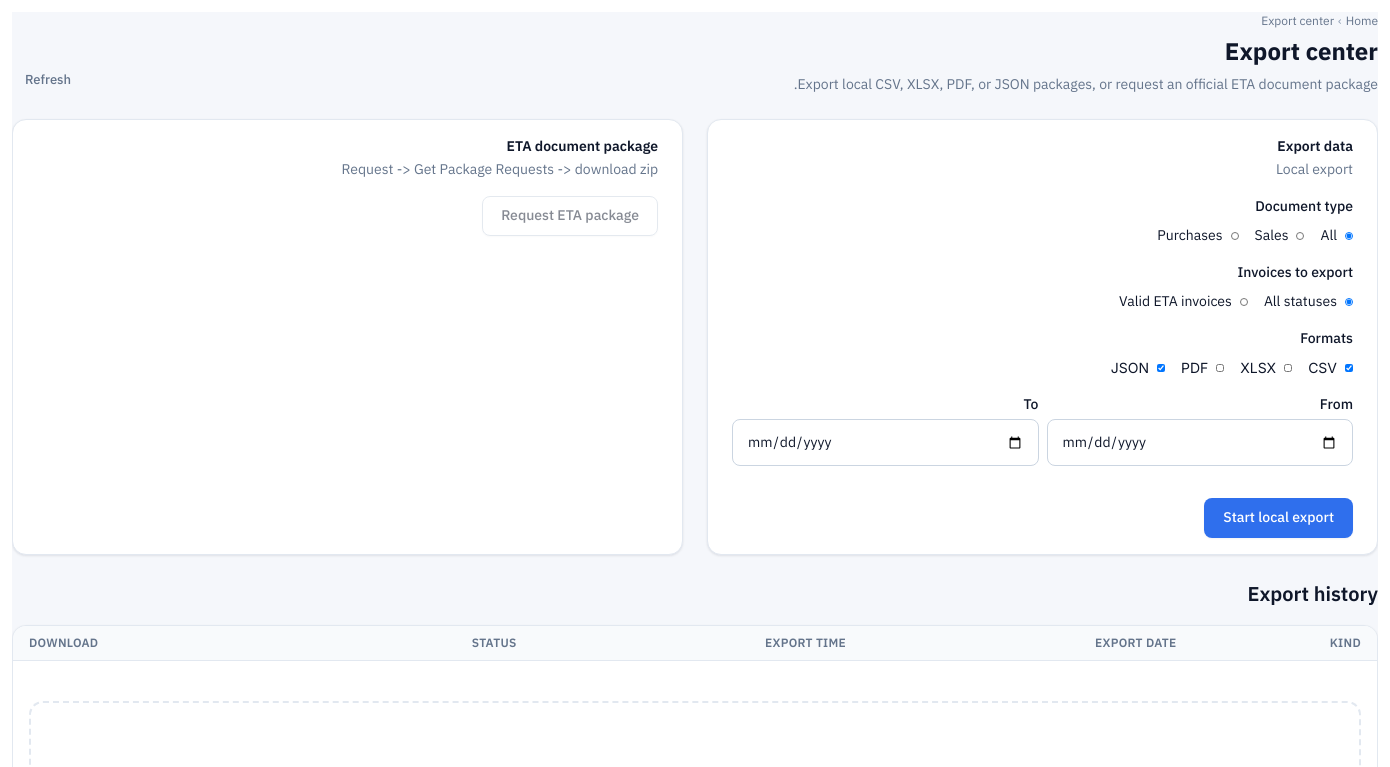
Scenario: exports page › shows a mutation error without a list retry
Click the button "Start local export" at (1279, 518), box left=1204, top=498, right=1353, bottom=538
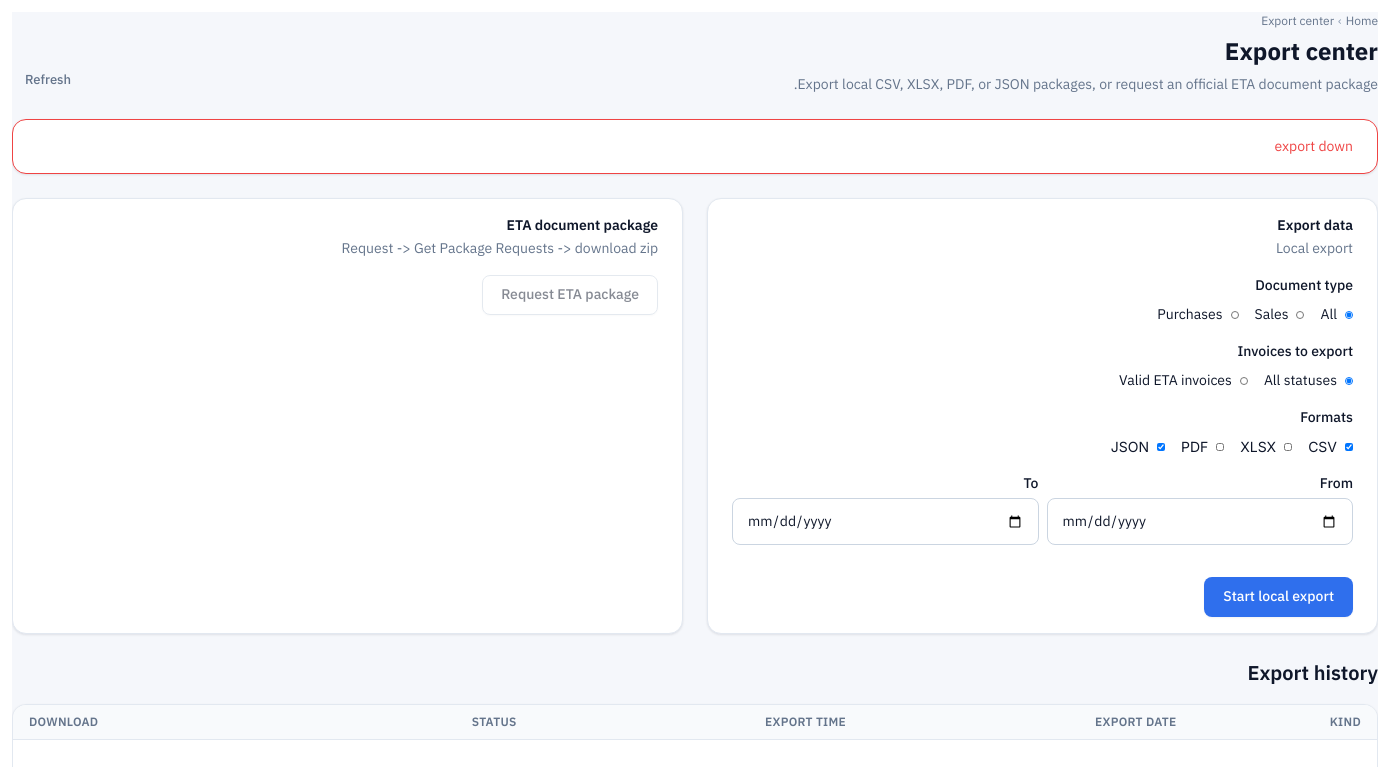
Result: the message reads "export down" at left=1274, top=136, right=1353, bottom=157
